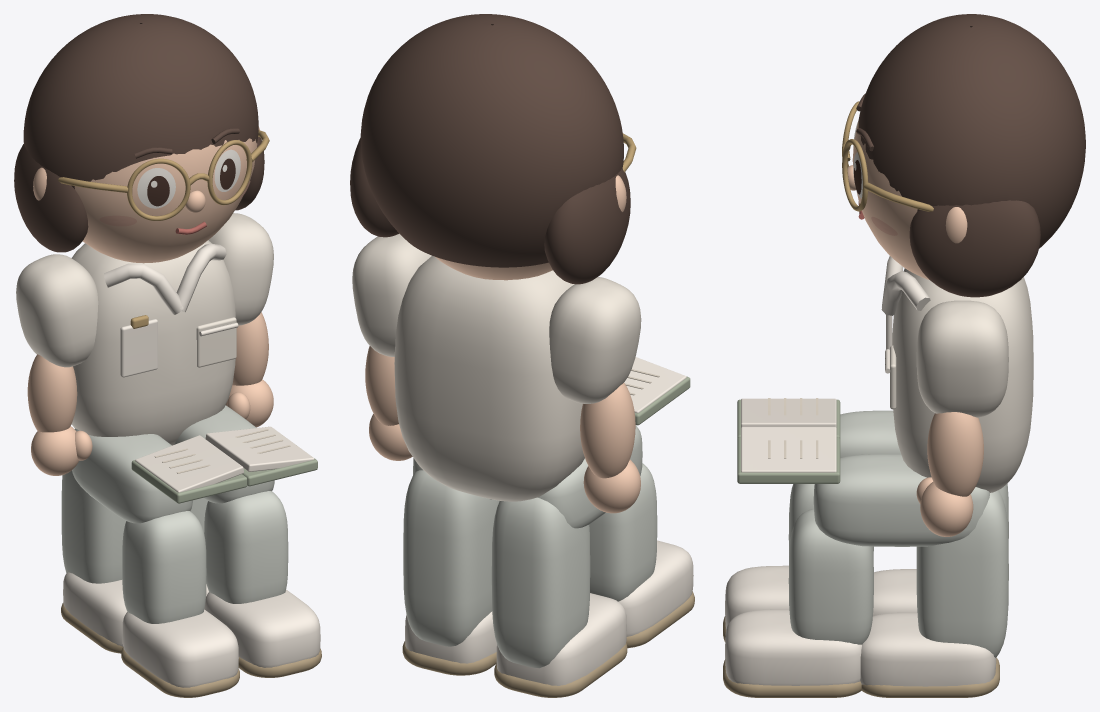
File: researcher.glb
3 renders of one model, left to right at view 1: azimuth 30°, elevation 25°; view 2: azimuth 150°, elevation 25°; view 3: azimuth 270°, elevation 25°, orthographic. The views are drawn at different scales.
Visible parts, largest first — view 1: Head mesh, SeatedLegs mesh, Torso mesh, Arm_L mesh, Leg_L mesh, Book mesh, Arm_R mesh, Glasses mesh; view 2: Head mesh, Torso mesh, Leg_L mesh, Leg_R mesh, Arm_L mesh, SeatedLegs mesh, Arm_R mesh, Book mesh; view 3: Head mesh, SeatedLegs mesh, Leg_R mesh, Arm_R mesh, Torso mesh, Book mesh, Leg_L mesh, Glasses mesh.
Part boxes in pixels (left/top/right/bottom): Head mesh: left=14, top=14, right=264, bottom=263; SeatedLegs mesh: left=72, top=405, right=321, bottom=697; Torso mesh: left=71, top=240, right=238, bottom=445; Arm_L mesh: left=16, top=254, right=98, bottom=475; Leg_L mesh: left=61, top=470, right=127, bottom=653; Book mesh: left=131, top=426, right=317, bottom=503; Arm_R mesh: left=208, top=213, right=273, bottom=427; Glasses mesh: left=58, top=130, right=269, bottom=220; Head mesh: left=350, top=14, right=630, bottom=284; Torso mesh: left=394, top=255, right=584, bottom=501; Leg_L mesh: left=491, top=497, right=627, bottom=697; Leg_R mesh: left=402, top=470, right=499, bottom=675; Arm_L mesh: left=549, top=277, right=641, bottom=513; SeatedLegs mesh: left=413, top=425, right=694, bottom=648; Arm_R mesh: left=352, top=233, right=431, bottom=460; Book mesh: left=624, top=357, right=690, bottom=425; Head mesh: left=847, top=14, right=1085, bottom=297; SeatedLegs mesh: left=723, top=410, right=989, bottom=697; Leg_R mesh: left=860, top=490, right=1008, bottom=697; Arm_R mesh: left=916, top=300, right=1008, bottom=536; Torso mesh: left=881, top=256, right=1033, bottom=492; Book mesh: left=737, top=398, right=840, bottom=483; Leg_L mesh: left=873, top=483, right=1008, bottom=615; Glasses mesh: left=842, top=101, right=933, bottom=211.
Size of the model in its own units: 0.8452 by 1.98 by 1.02.
